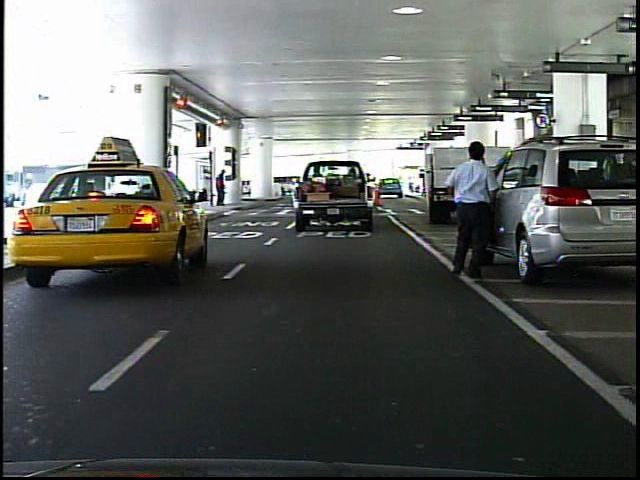person: (441, 133, 499, 284), (212, 165, 230, 208)
